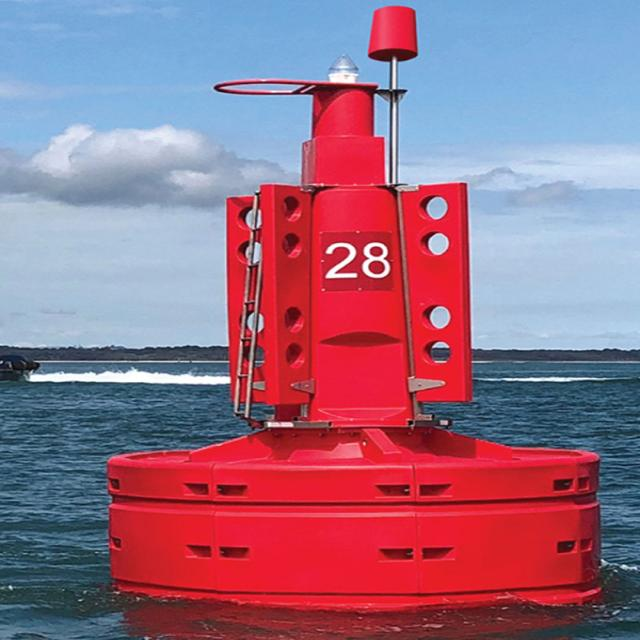buoy: (105, 0, 610, 613)
